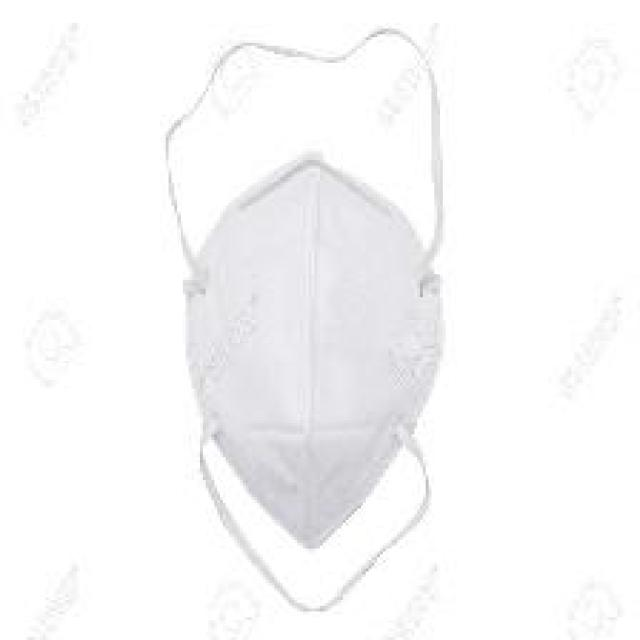Mask: (138, 32, 472, 615)
